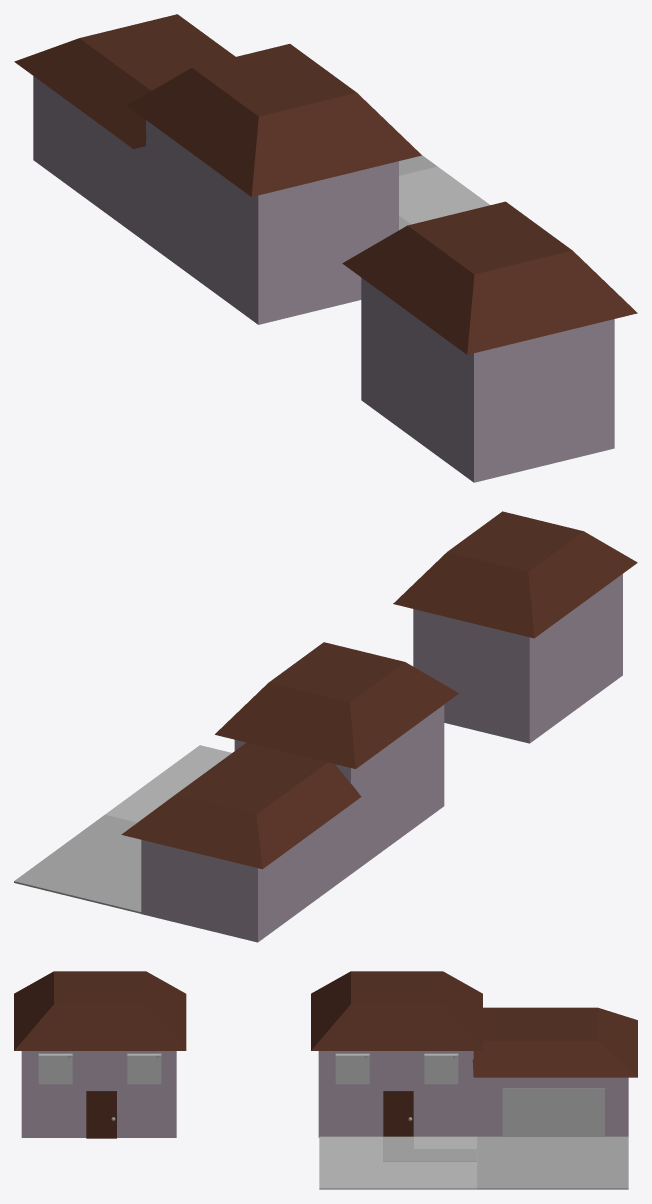
File: Houses.fbx
3 renders of one model, top to bottom at view 1: azimuth 30°, elevation 25°; view 2: azimuth 150°, elevation 25°; view 3: azimuth 270°, elevation 25°, orthographic. The views are drawn at different scales.
Visible parts, largest first — view 1: pCube1, pCube11, pCube15, pCube18; view 2: pCube1, pCube15, pCube11, pCube17, pCube18; view 3: pCube1, pCube11, pCube15, pCube17, pCube18, pCube16, pCube19, pCube2, pCube10, pCube6, pCube12, pCube7 (+1 smaller).
Boxes of the visible parts, box(x1,y1,x2,y2) form: pCube1: box(342, 201, 637, 482); pCube11: box(127, 44, 421, 324); pCube15: box(14, 14, 235, 242); pCube18: box(399, 166, 490, 224); pCube1: box(393, 511, 637, 743); pCube15: box(121, 742, 361, 942); pCube11: box(215, 642, 458, 873); pCube17: box(14, 814, 141, 913); pCube18: box(105, 745, 231, 822); pCube1: box(14, 971, 186, 1137); pCube11: box(311, 971, 482, 1137); pCube15: box(472, 1007, 637, 1136); pCube17: box(477, 1136, 628, 1189); pCube18: box(319, 1136, 477, 1189); pCube16: box(502, 1088, 604, 1136); pCube19: box(383, 1136, 476, 1161); pCube2: box(86, 1091, 116, 1138); pCube10: box(383, 1091, 413, 1136); pCube6: box(127, 1053, 161, 1084); pCube12: box(335, 1053, 369, 1084); pCube7: box(38, 1053, 72, 1084).
Size of the model in its own units: 5.05 by 2.92 by 12.91.
